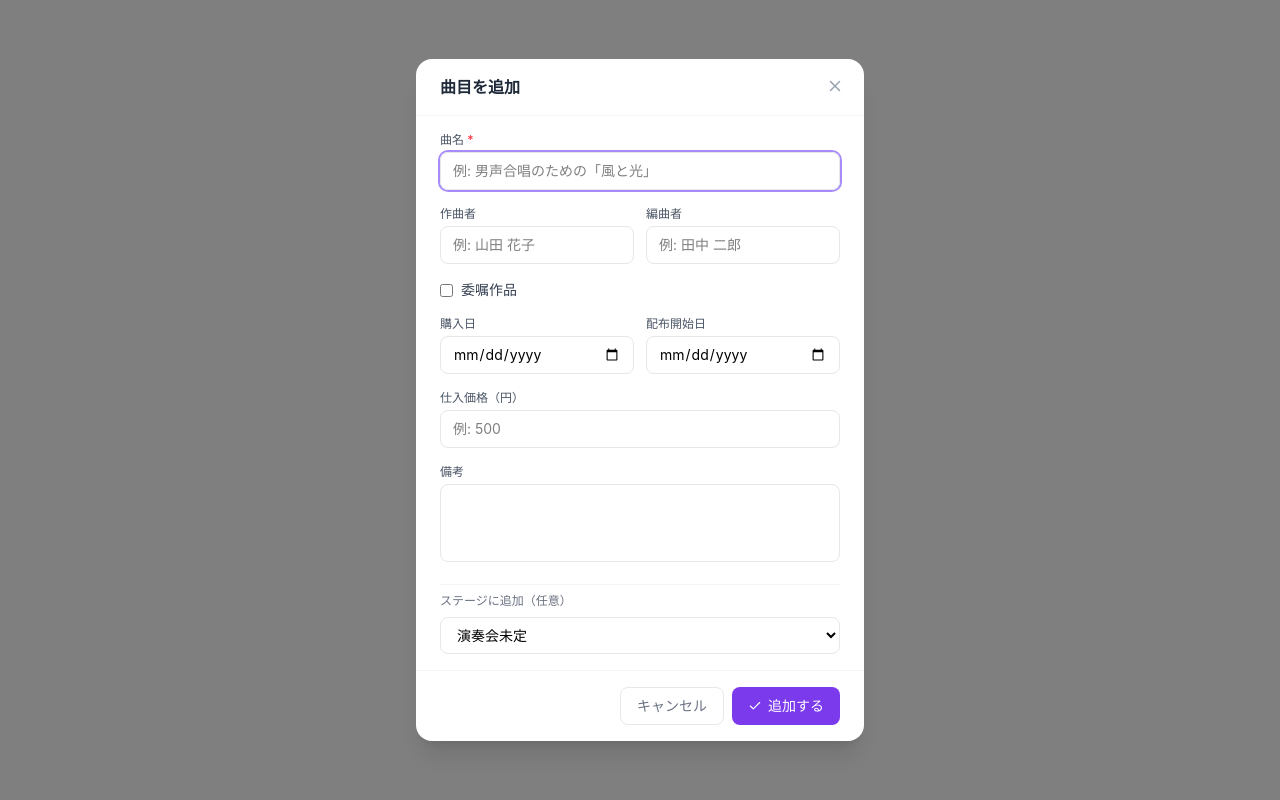
Test: ScoreFormModal（追加モード・ステージ選択） › ステージが複数ある演奏会を選択し未選択のままだと送信ボタンが無効になる
Type "新曲" into the field with placeholder "例: 男声合唱のための「風と光」" at [640, 171], box [440,152,840,190]
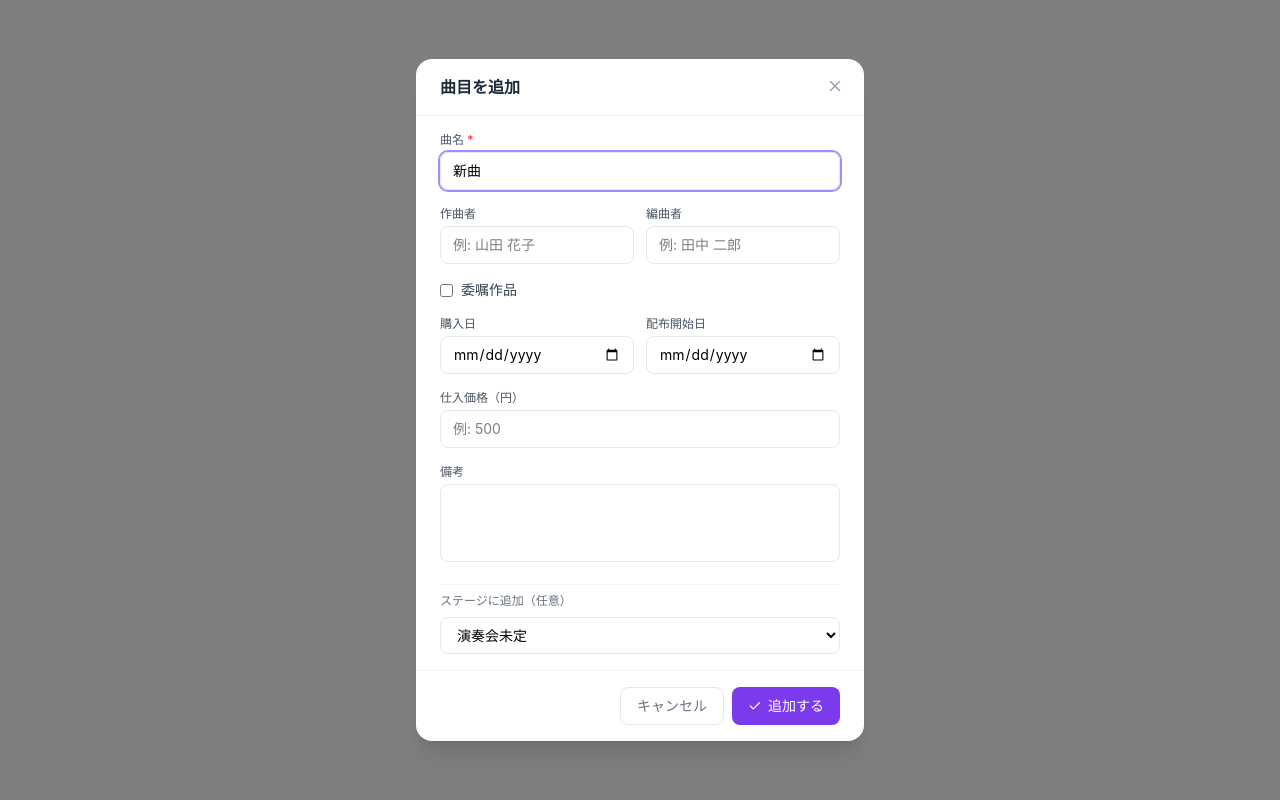
Select "第20回定期演奏会" in the dropdown showing "演奏会未定" at [640, 636], box [440,617,840,654]
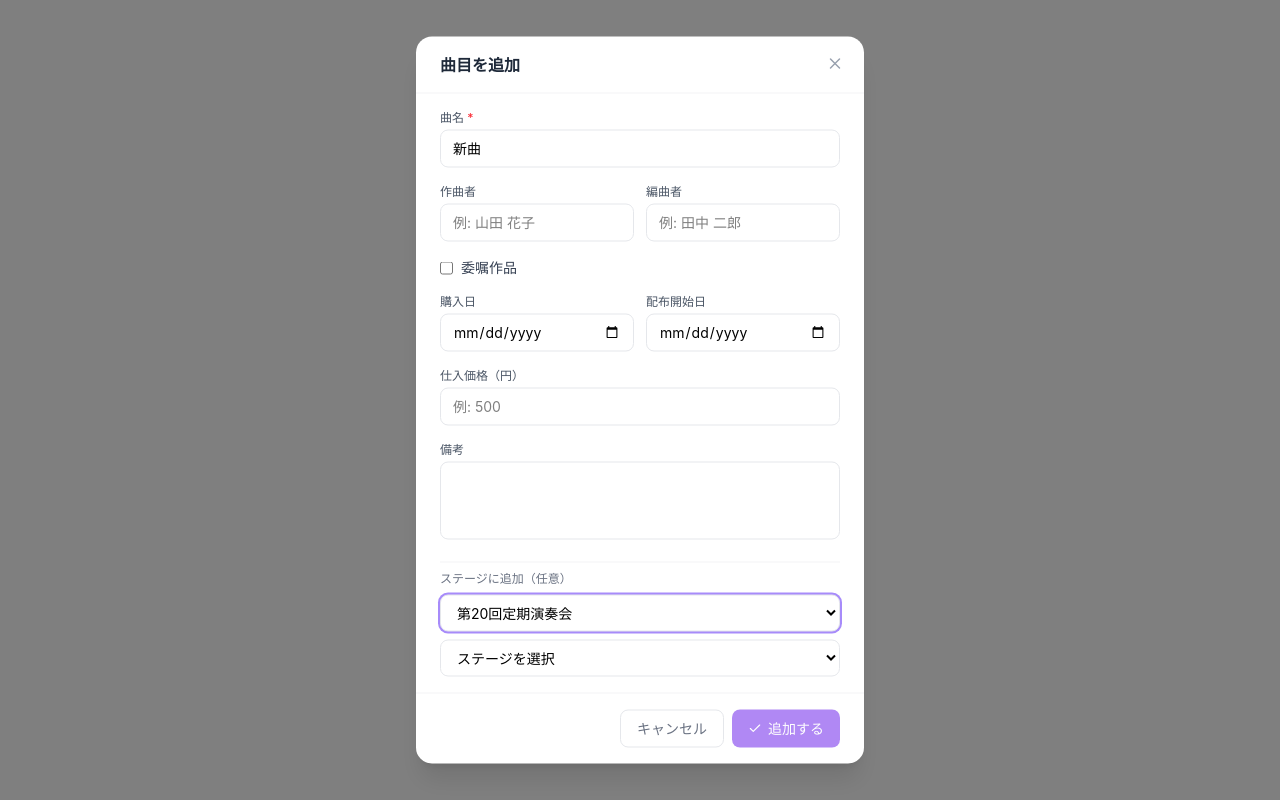
Expected: the button "追加する" is disabled, [732,710,840,748]
